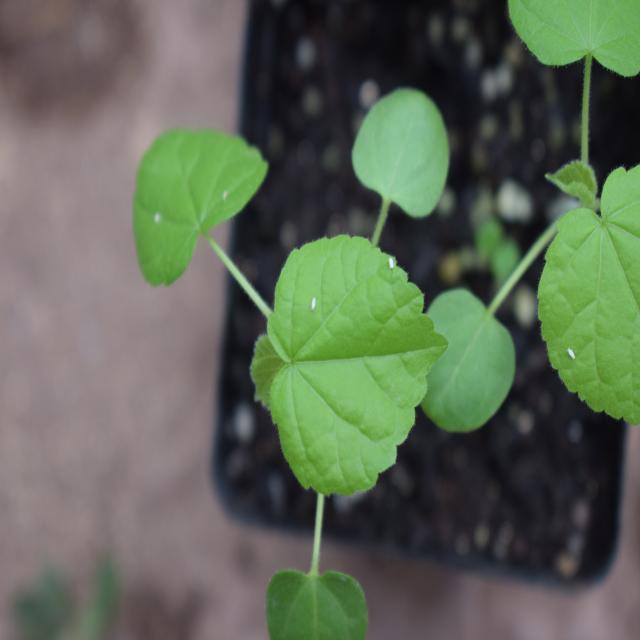abutilon theophrasti: (114, 73, 457, 611)
